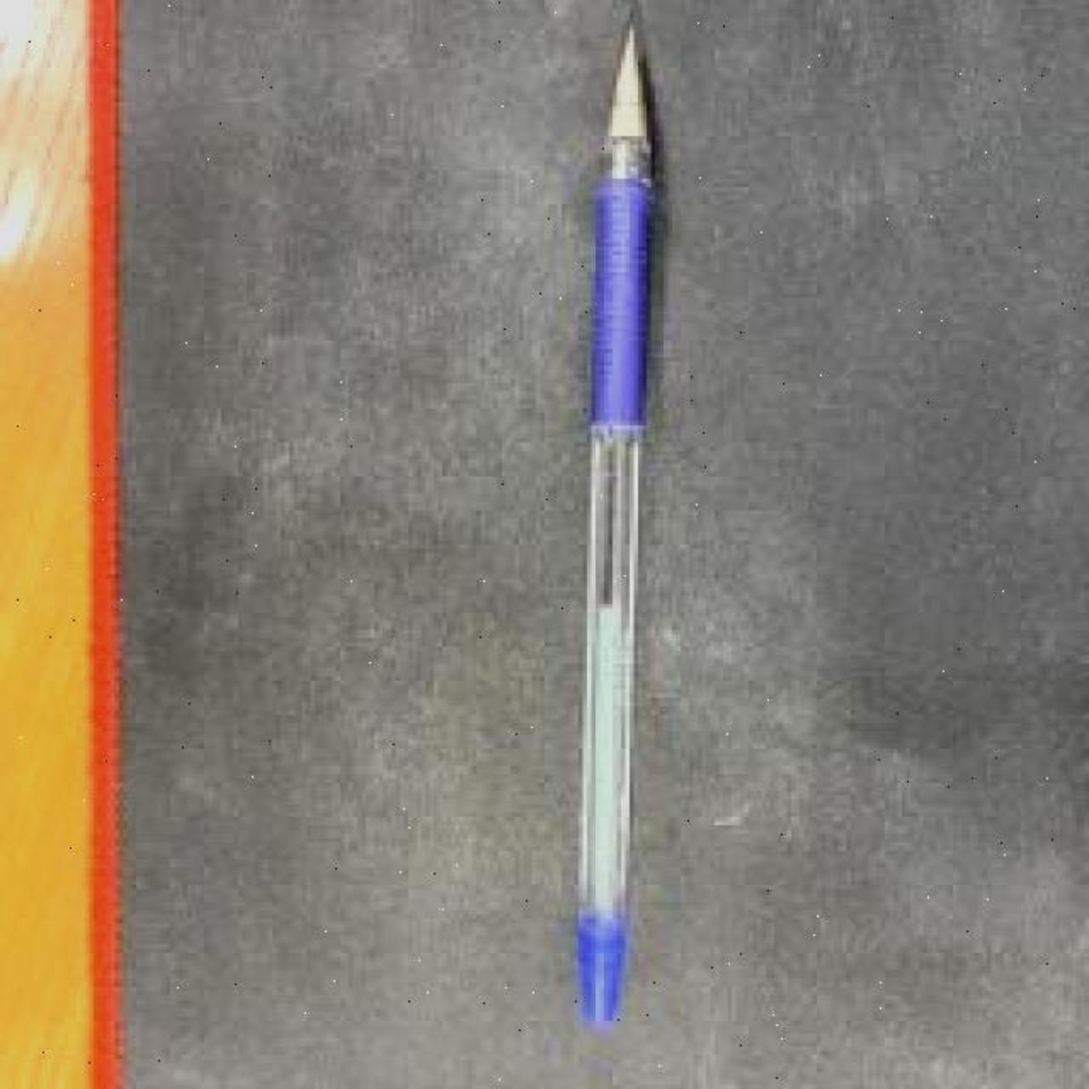pen: (567, 26, 660, 1038)
